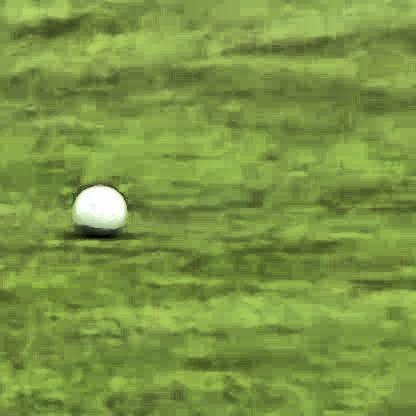golfball: (72, 180, 126, 234)
